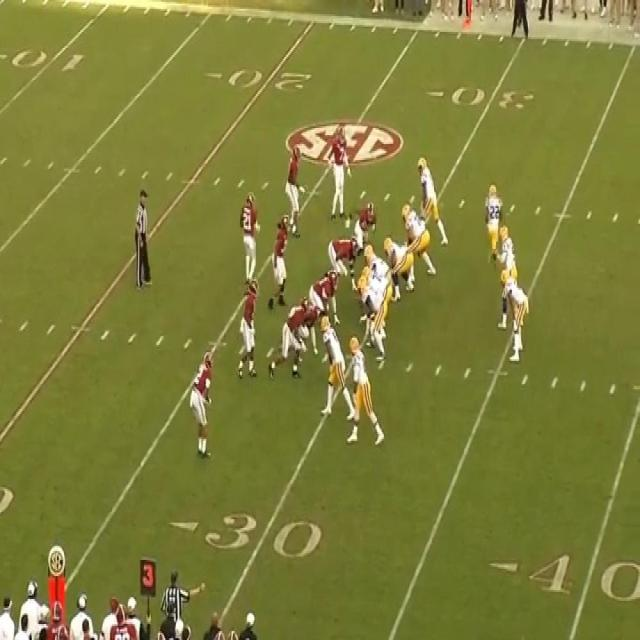center: (366, 246, 392, 286)
db: (190, 350, 215, 459), (285, 147, 303, 233), (244, 190, 257, 278)
lb: (273, 212, 286, 294)
qb: (495, 224, 515, 268)
skill: (350, 336, 384, 444), (500, 270, 529, 358), (323, 316, 347, 412), (277, 298, 304, 372), (238, 276, 258, 372), (329, 123, 346, 215), (418, 158, 439, 214), (484, 179, 500, 247), (354, 202, 378, 235)
